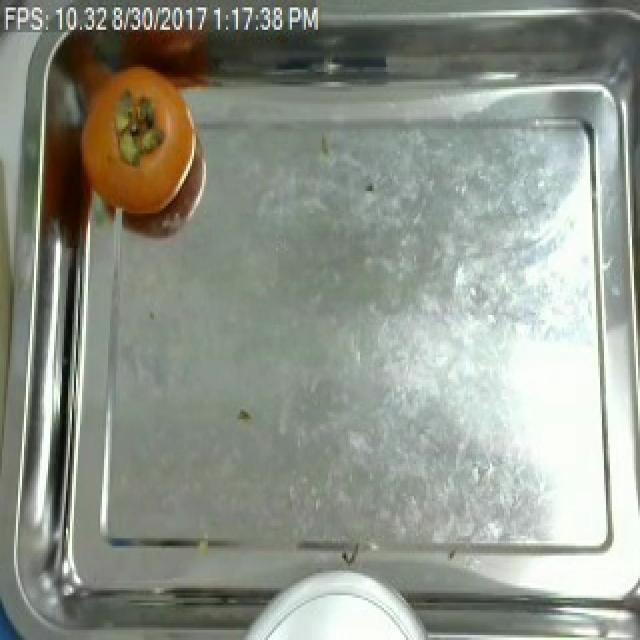Fruit: (68, 52, 204, 231)
